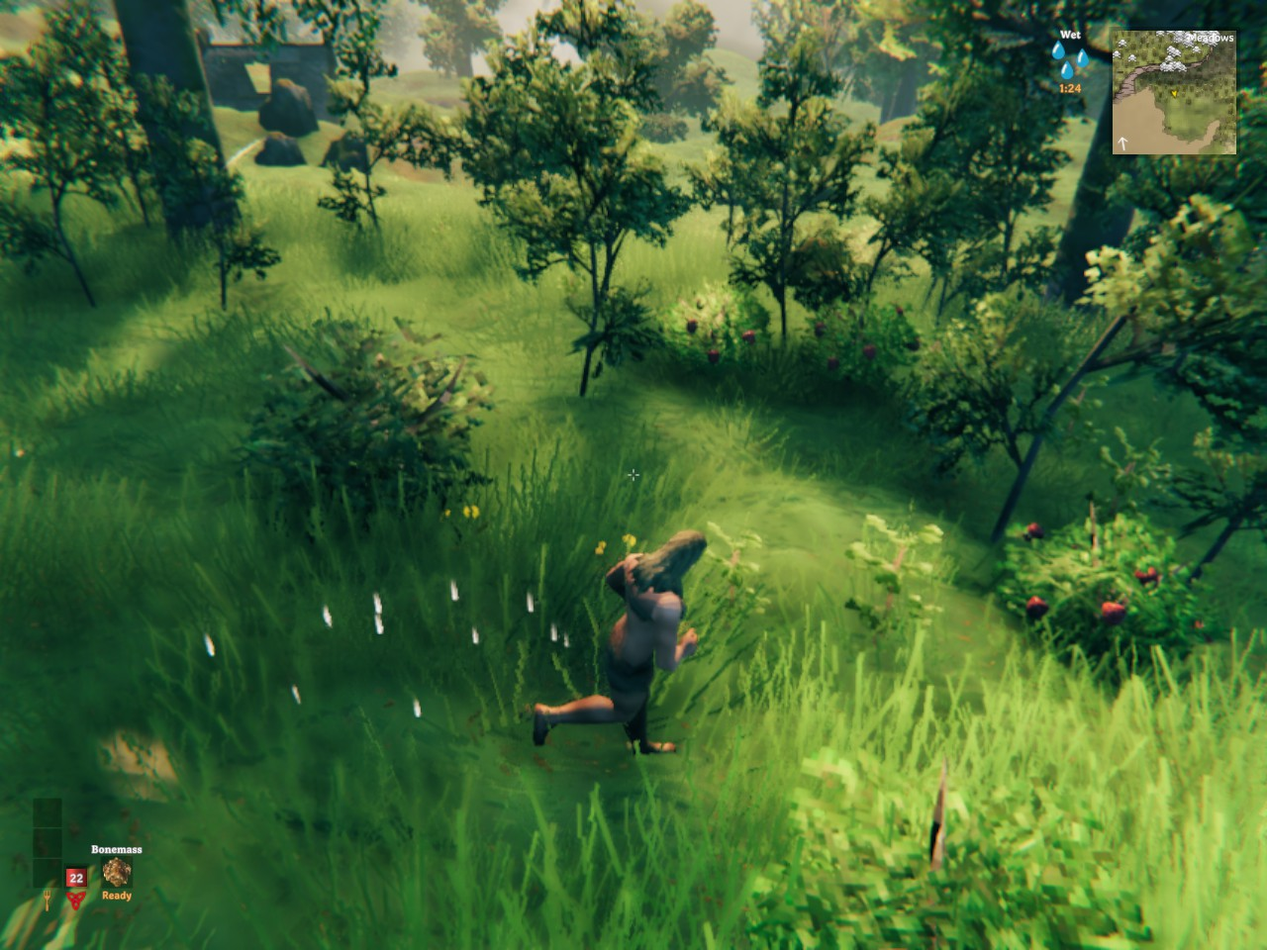House: (195, 20, 350, 119)
Raspberries: (994, 513, 1204, 649), (797, 301, 921, 381), (673, 291, 773, 374)
